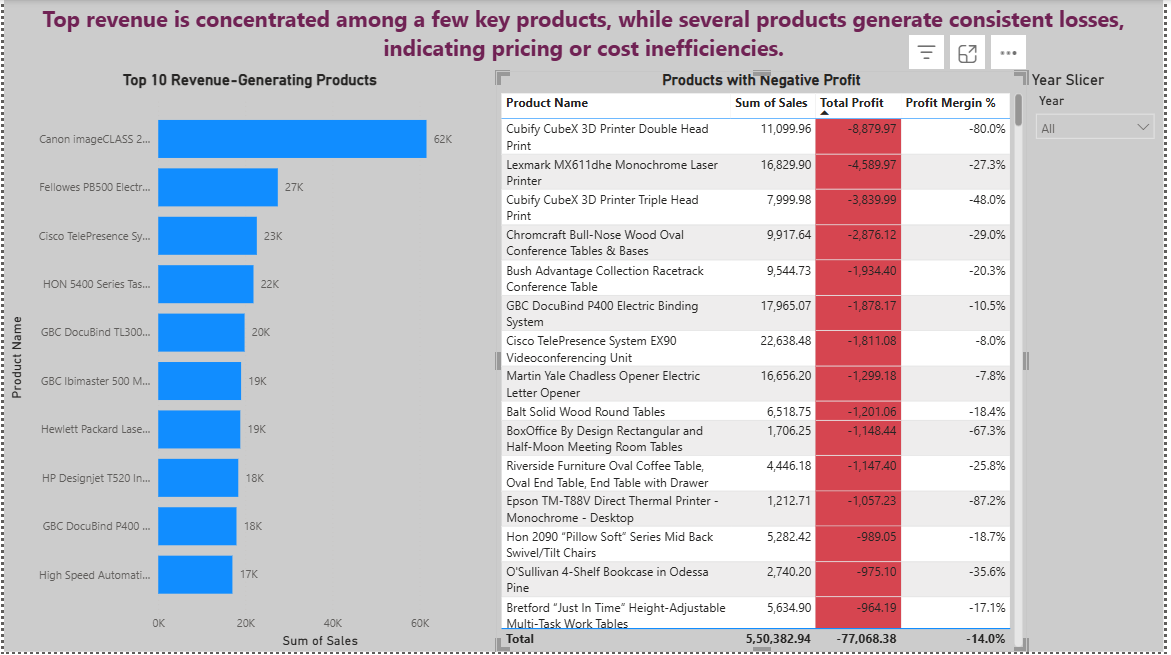

This screenshot's page, from the dashboard's own definition file:
{"tool":"powerbi","page":{"name":"Product Analysis","canvas":[1280,720],"ordinal":1},"visuals":[{"type":"clusteredBarChart","title":"Top 10 Revenue-Generating Products","fields":{"Category":["Superstore.Product Name"],"Y":["Sum(Superstore.Sales)"]},"box":[0,79.5,543.3,641.1],"z":0},{"type":"tableEx","title":"Products with Negative Profit","fields":{"Values":["Superstore.Product Name","Sum(Superstore.Sales)","Superstore.Total Profit","Superstore.Profit Mergin %"]},"box":[543.3,79.5,586.4,641.1],"z":1000},{"type":"textbox","box":[0,0,1280,80],"z":2000},{"type":"slicer","title":"Year Slicer","fields":{"Values":["Superstore.Year"]},"box":[1129.7,79.5,150.7,641.1],"z":3000}]}

Visuals, with their boxes in screenshot pixels (x1, y1, x2, y2), scaled from the page's 1280x720 canvas onto the 1171x655 screenshot:
"Top 10 Revenue-Generating Products" clusteredBarChart: rect(0, 72, 497, 654)
"Products with Negative Profit" tableEx: rect(497, 72, 1033, 654)
textbox: rect(0, 0, 1170, 73)
"Year Slicer" slicer: rect(1033, 72, 1170, 654)
